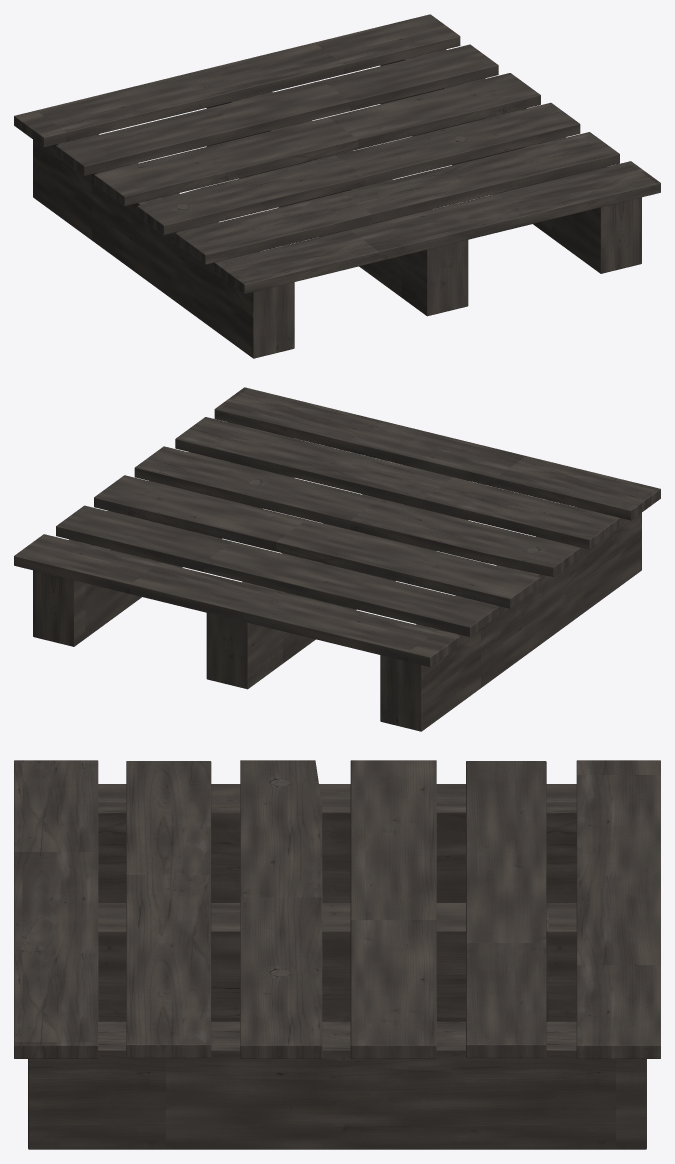
Rendered from SM_wooden_pallet_d10a9a1582.fbx.
The picture shows the model from 3 angles, top to bottom: view 1: azimuth 30°, elevation 25°; view 2: azimuth 150°, elevation 25°; view 3: azimuth 270°, elevation 25°; orthographic projection. The views are drawn at different scales.
Parts seen in each view (by area): view 1: SM_wooden_pallet_d10a9a1582; view 2: SM_wooden_pallet_d10a9a1582; view 3: SM_wooden_pallet_d10a9a1582.
Part boxes in pixels (<box>): SM_wooden_pallet_d10a9a1582: <box>14,14,660,358</box>; SM_wooden_pallet_d10a9a1582: <box>14,387,660,731</box>; SM_wooden_pallet_d10a9a1582: <box>14,760,660,1149</box>.
Size of what is drawn, in the model's own units: 120 by 115 by 22.47.
Materials: 2 (2 with a texture image).
